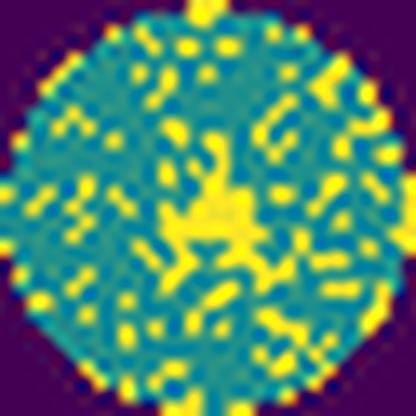Center: (156, 131, 314, 302)
